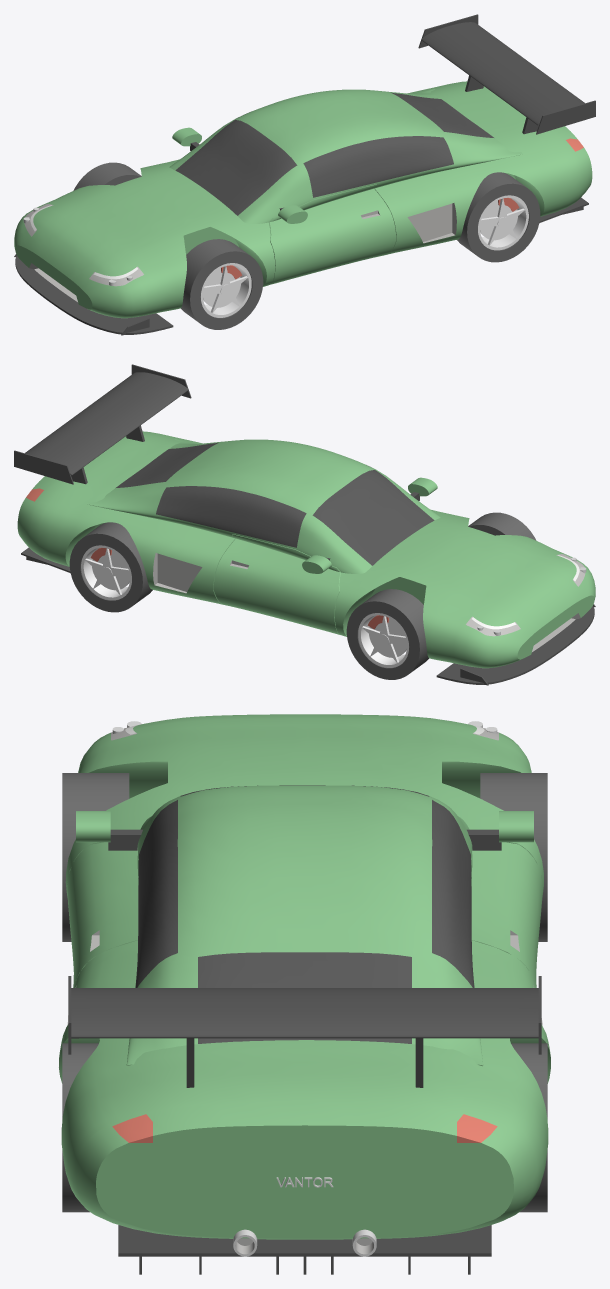
File: test-car.glb
3 renders of one model, top to bottom at view 1: azimuth 30°, elevation 25°; view 2: azimuth 150°, elevation 25°; view 3: azimuth 270°, elevation 25°, orthographic. The views are drawn at different scales.
Visible parts, largest first — view 1: Body, Cabin, Wing, Tyre, Tyre (2), Splitter, Tyre (1), Rim (2), Rim, Rim spokes (2), Rim spokes, Brake disc (2) (+2 smaller); view 2: Body, Cabin, Wing, Tyre (1), Tyre (3), Splitter, Tyre, Rim (3), Rim (1), Rim spokes (3), Rim spokes (1), Brake disc (3) (+2 smaller); view 3: Body, Cabin, Wing, Diffuser, Tyre (1), Tyre, Tyre (3), Tyre (2), Mirror, Mirror (1).
Boxes of the visible parts, <box> form: Body: <box>14,81,592,318</box>; Cabin: <box>169,89,522,223</box>; Wing: <box>418,14,595,134</box>; Tyre: <box>181,239,263,329</box>; Tyre (2): <box>457,172,540,262</box>; Splitter: <box>14,254,173,335</box>; Tyre (1): <box>73,162,141,190</box>; Rim (2): <box>478,195,528,250</box>; Rim: <box>201,263,251,317</box>; Rim spokes (2): <box>481,198,524,245</box>; Rim spokes: <box>204,266,247,312</box>; Brake disc (2): <box>480,200,517,240</box>; Body: <box>17,431,595,668</box>; Cabin: <box>87,439,440,573</box>; Wing: <box>14,364,191,484</box>; Tyre (1): <box>346,589,428,679</box>; Tyre (3): <box>69,522,152,612</box>; Splitter: <box>436,604,595,685</box>; Tyre: <box>468,512,536,540</box>; Rim (3): <box>81,545,131,600</box>; Rim (1): <box>358,613,408,667</box>; Rim spokes (3): <box>85,548,128,595</box>; Rim spokes (1): <box>362,616,405,662</box>; Brake disc (3): <box>92,550,129,590</box>; Body: <box>59,714,550,1239</box>; Cabin: <box>126,785,483,1066</box>; Wing: <box>68,976,541,1087</box>; Diffuser: <box>118,1225,491,1274</box>; Tyre (1): <box>480,773,547,941</box>; Tyre: <box>62,773,129,941</box>; Tyre (3): <box>511,1043,547,1212</box>; Tyre (2): <box>62,1043,98,1212</box>; Mirror: <box>76,811,110,842</box>; Mirror (1): <box>499,811,533,842</box>.
Bounding box in the file's own units: 461 × 121 × 198.
